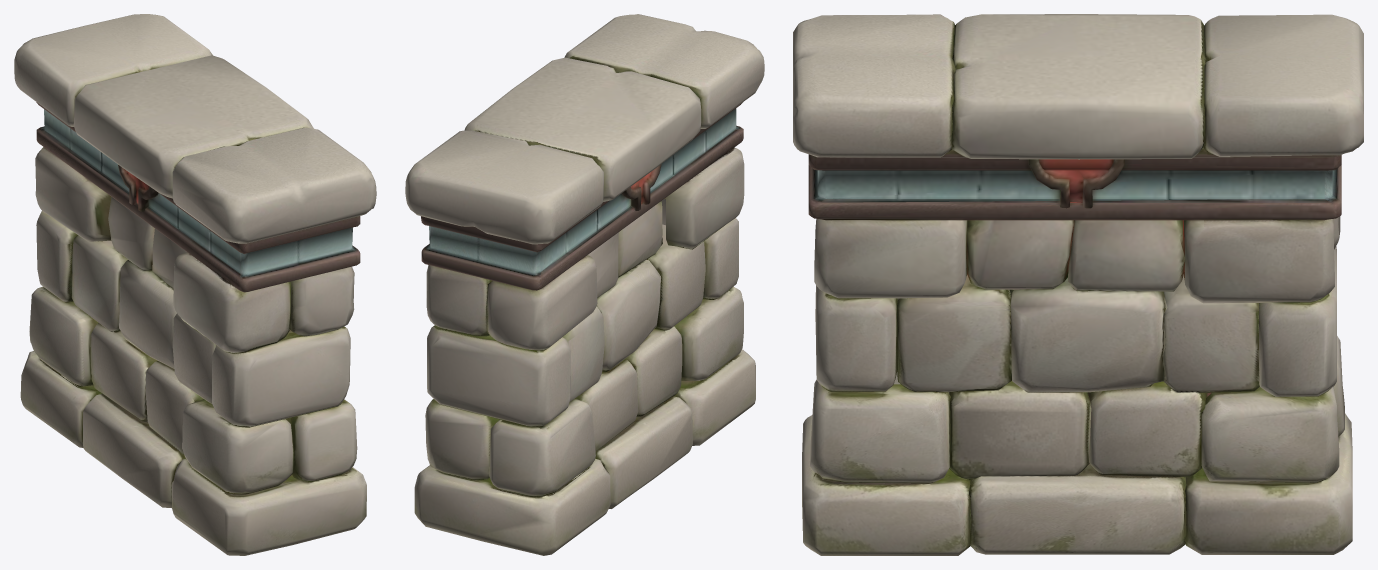
The model's file is tripo_convert_12ef18a8-96ff-4de4-b0eb-245b1732ba7d.fbx.
3 views of the same model, side by side, from view 1: azimuth 30°, elevation 25°; view 2: azimuth 150°, elevation 25°; view 3: azimuth 270°, elevation 25° (orthographic). The views are drawn at different scales.
Visible parts, largest first — view 1: tripo_node_12ef18a8; view 2: tripo_node_12ef18a8; view 3: tripo_node_12ef18a8.
Part boxes in pixels (x1,y1,x2,y2): tripo_node_12ef18a8: (14,14,376,555); tripo_node_12ef18a8: (405,14,764,555); tripo_node_12ef18a8: (793,14,1363,555).
Size of the model in its own units: 0.3887 by 0.8887 by 0.998.
Materials: 1 (1 with a texture image).
